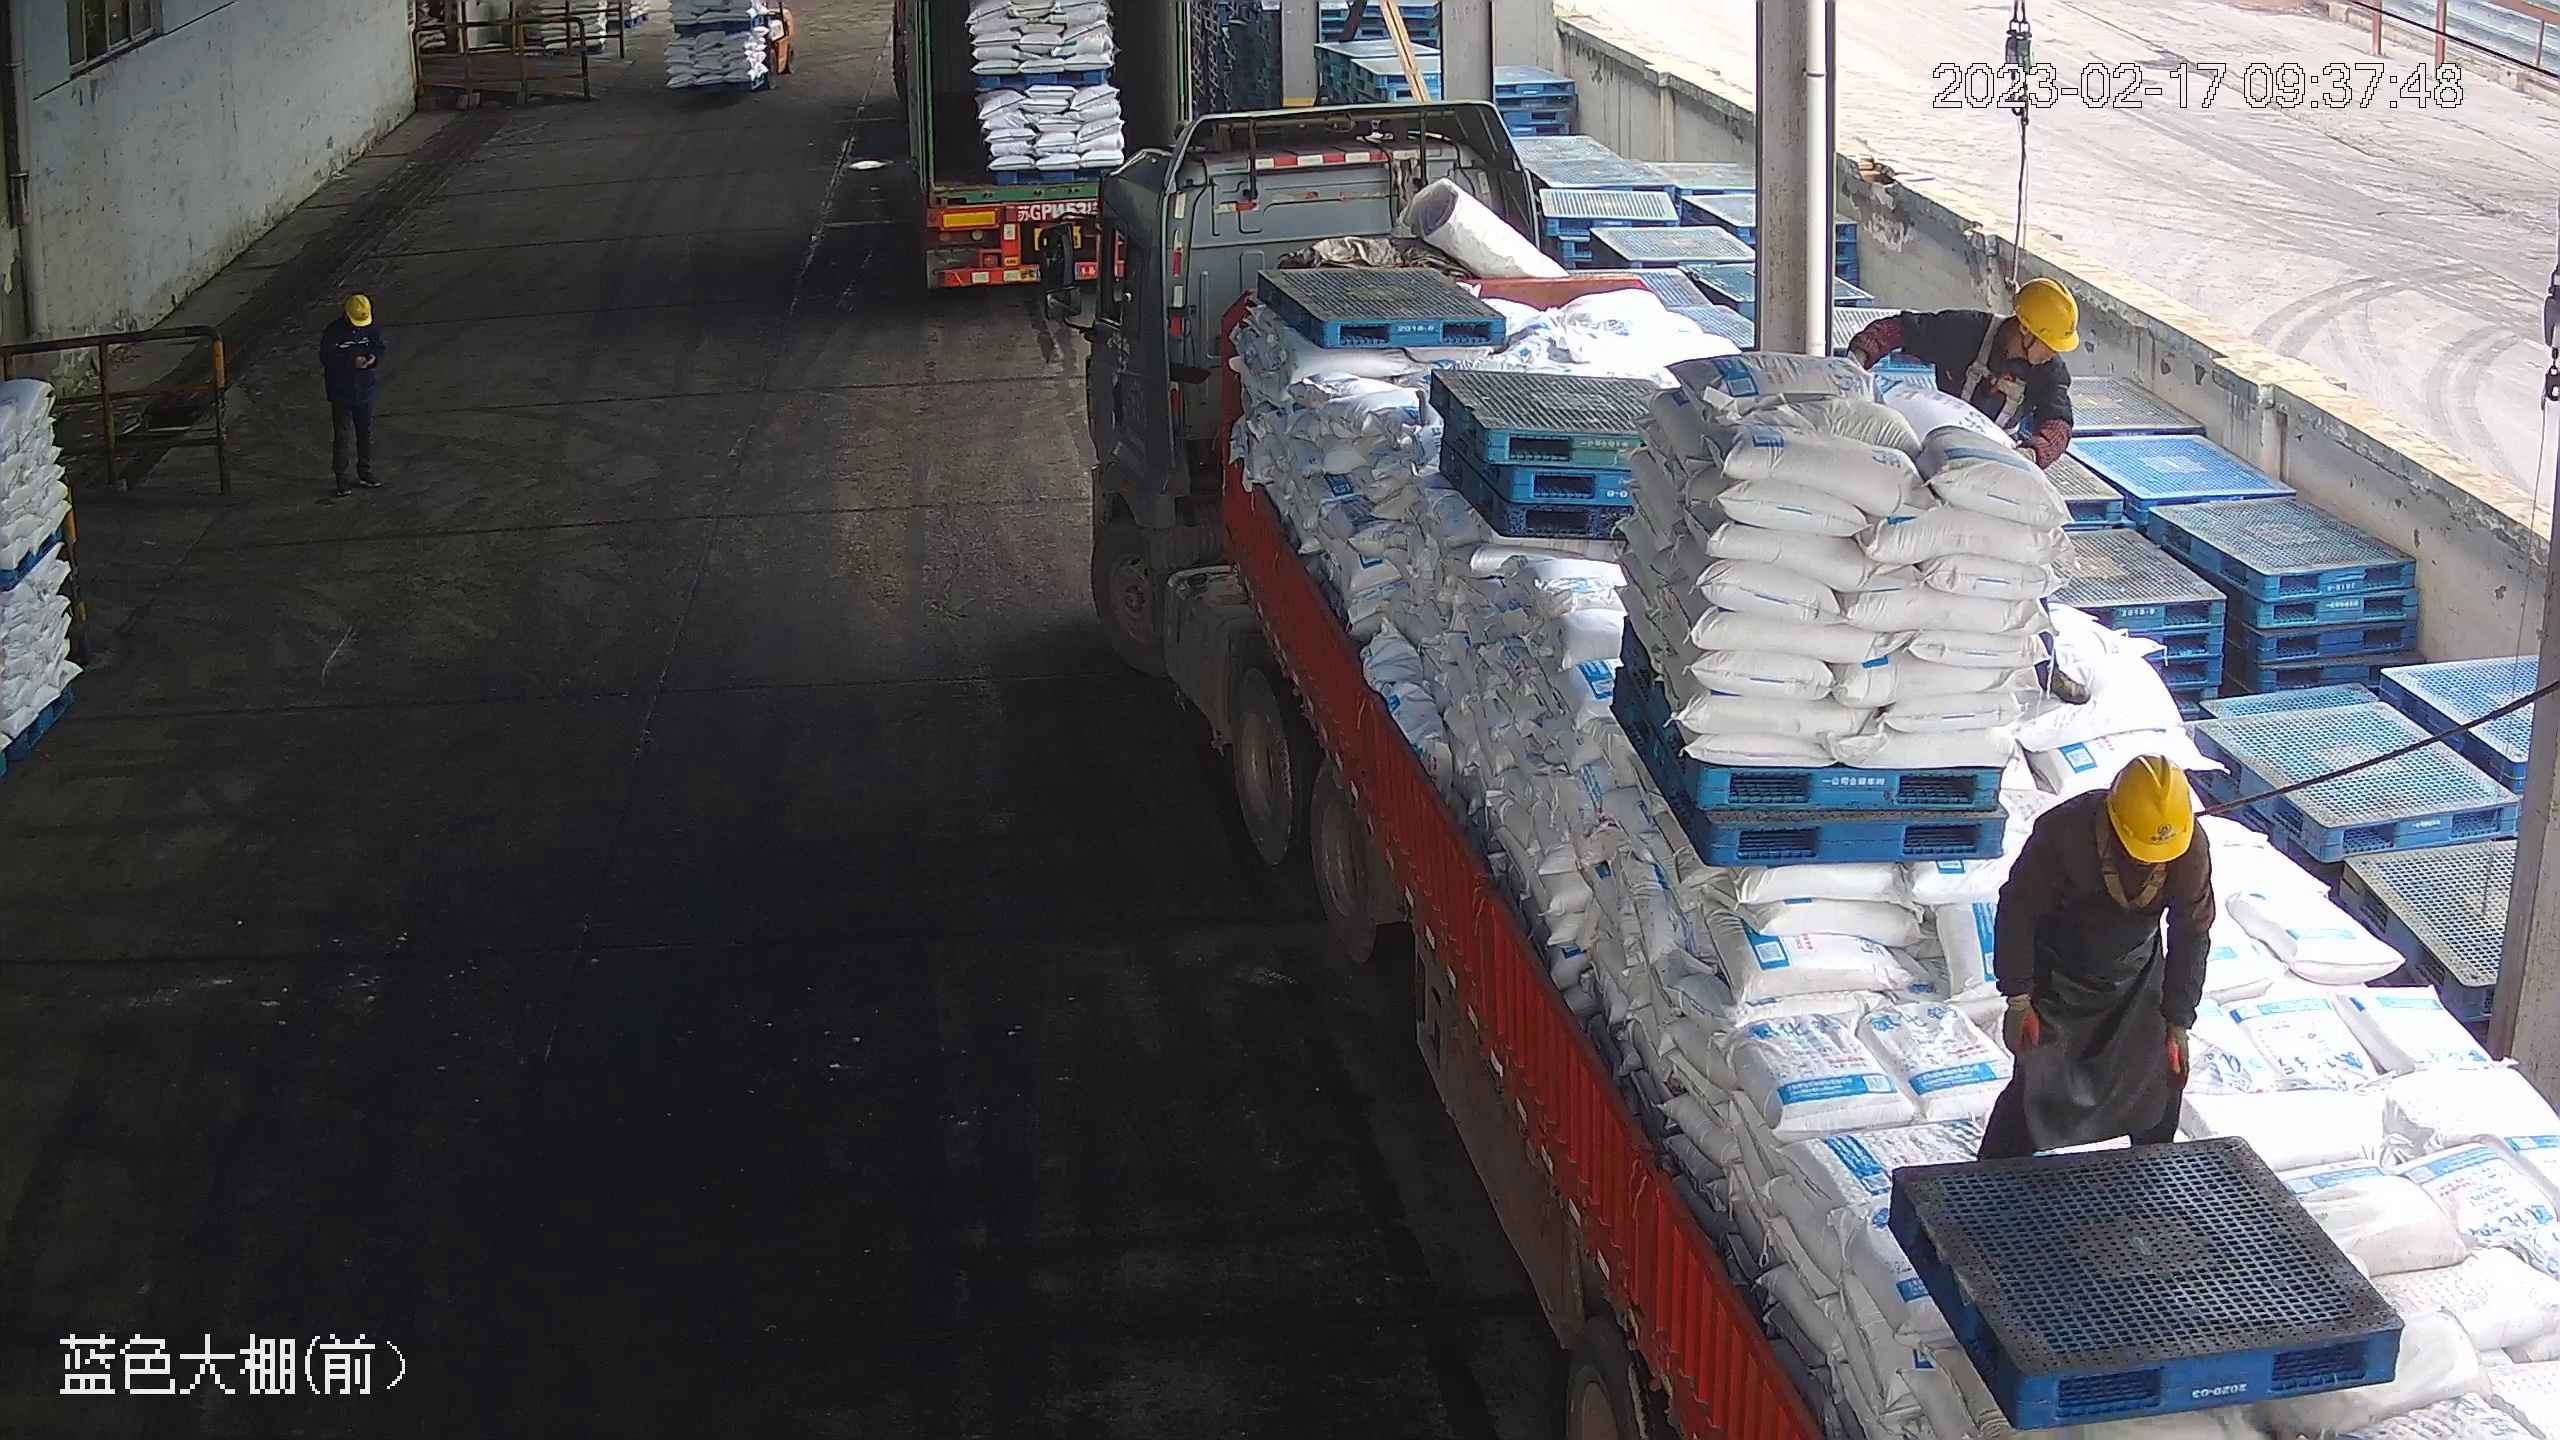belt: (2084, 802, 2170, 913), (1967, 332, 2033, 419)
head: (2021, 753, 2215, 902), (1946, 271, 2082, 400), (319, 291, 385, 352)
helmet: (2105, 752, 2198, 864), (2007, 271, 2087, 352), (343, 292, 374, 322)
people: (1984, 749, 2218, 1163), (317, 291, 389, 495)
truck: (1037, 98, 2554, 1440), (890, 1, 1181, 292)
